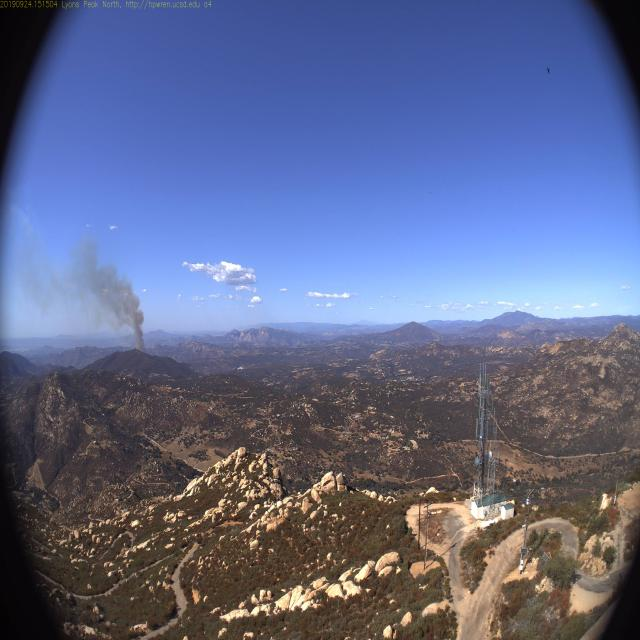smoke: (120, 318, 158, 361)
